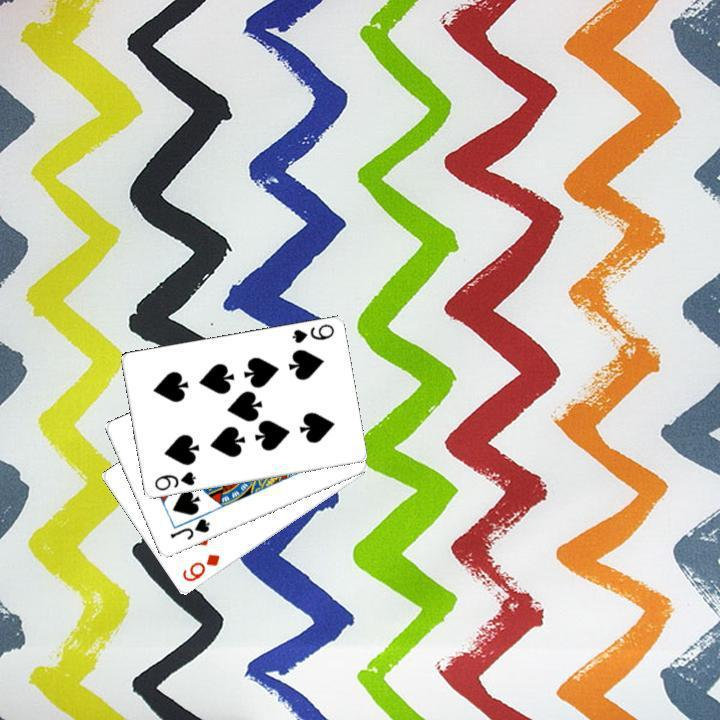6: (178, 550, 222, 584)
9: (288, 320, 336, 346), (150, 468, 198, 493)
J: (165, 514, 212, 542)
